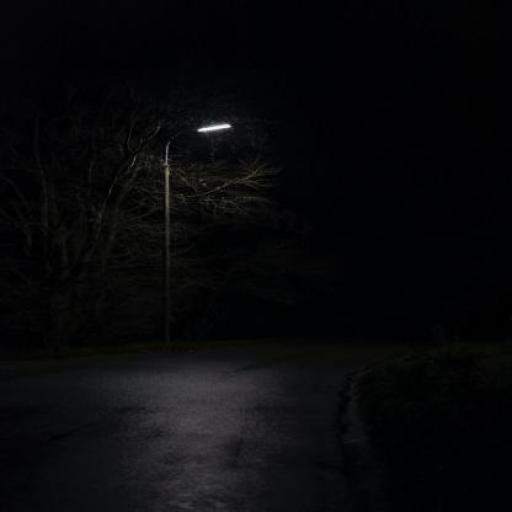street light: (162, 123, 232, 317)
